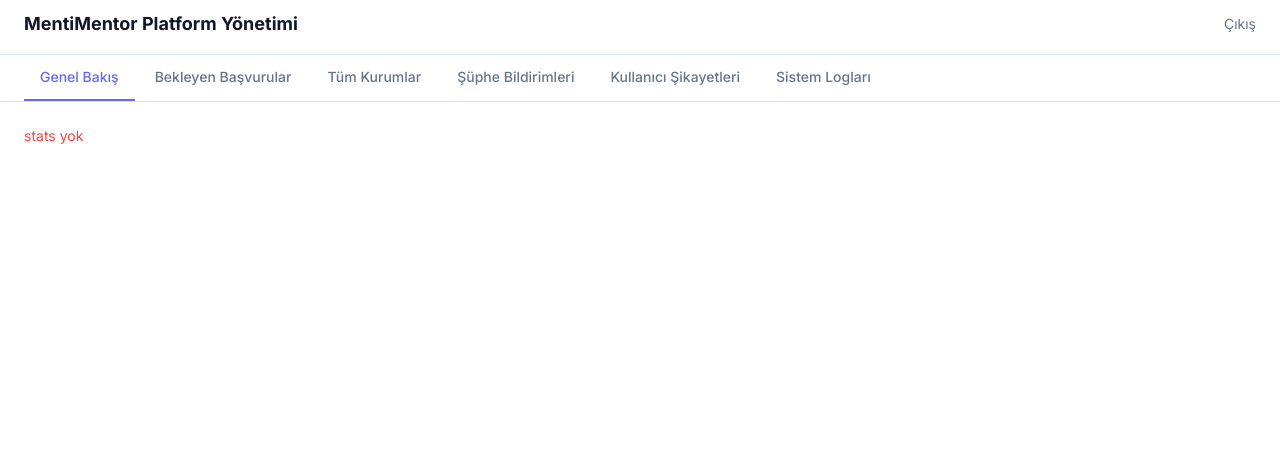
Test: Platform paneli — kullanıcı şikayetleri sayfalama (AN-39) › ikinci sayfa hatasında mevcut satırlar kalır ve Türkçe hata görünür
The width and height of the screenshot is (1280, 457).
Click the button "Kullanıcı Şikayetleri" at {"x": 675, "y": 78}, box x1=594 y1=55 x2=756 y2=101
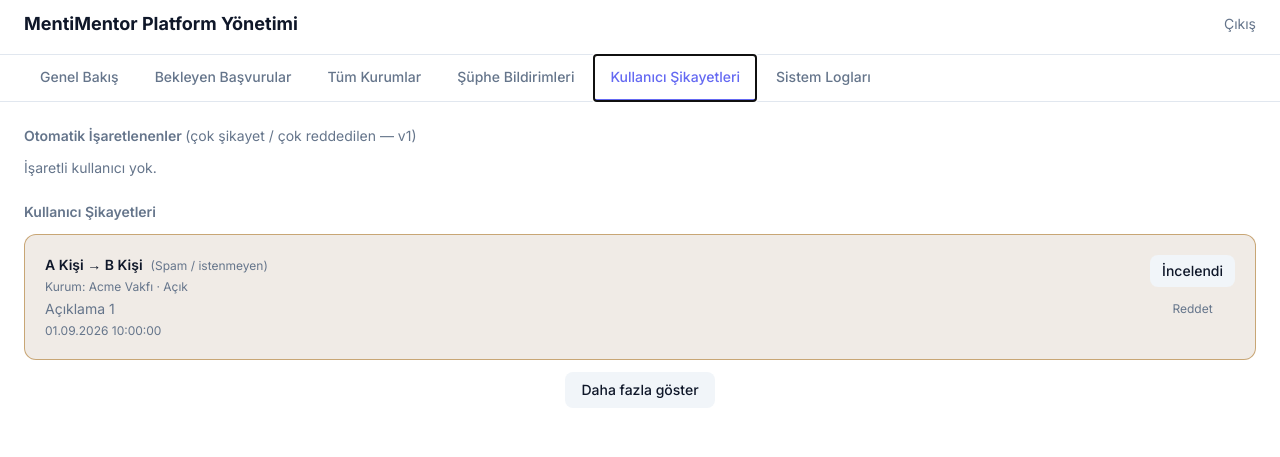
Expected: the text "Açıklama 1" is shown, x1=45 y1=300 x2=115 y2=317
Click the button "Daha fazla göster" at {"x": 640, "y": 390}, box x1=565 y1=372 x2=715 y2=408
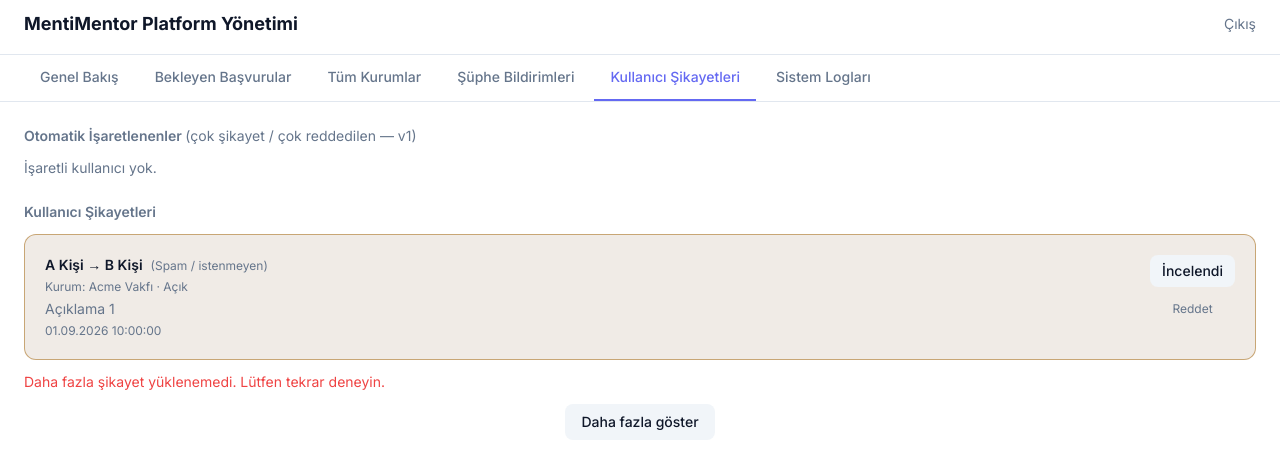
Expected: the text "Açıklama 1" is shown, x1=45 y1=300 x2=115 y2=317
Expected: the button "Daha fazla göster" is enabled, x1=565 y1=404 x2=715 y2=440
Expected: the text "Daha fazla şikayet yüklenemedi. Lütfen tekrar deneyin." is shown, x1=24 y1=373 x2=385 y2=390
